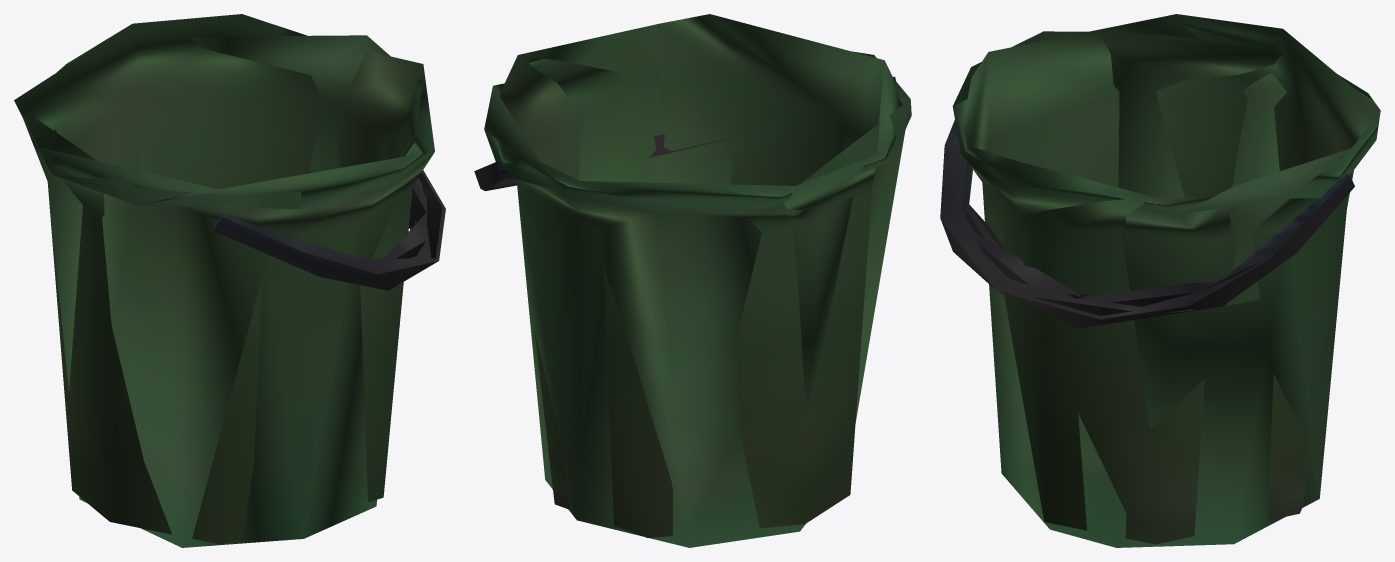
The model's file is bw-bucket.lod1.glb.
3 views of the same model, side by side, from view 1: azimuth 30°, elevation 25°; view 2: azimuth 150°, elevation 25°; view 3: azimuth 270°, elevation 25° (orthographic).
Parts seen in each view (by area): view 1: Object_32; view 2: Object_32; view 3: Object_32.
Boxes of the visible parts, x1,y1,x2,y2 form: Object_32: [14, 14, 445, 547]; Object_32: [474, 14, 911, 547]; Object_32: [940, 14, 1380, 547].
Bounding box in the file's own units: 0.312 × 0.3 × 0.3106.
1 material, 1 textured.
